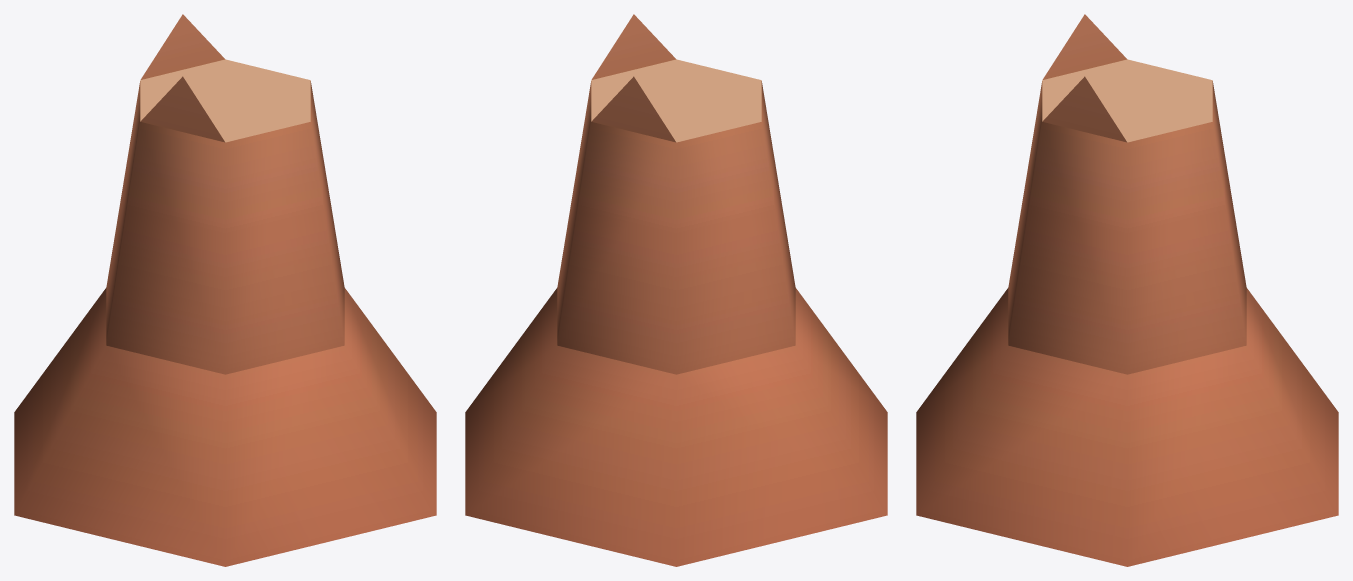
The model's file is tree-trunk.glb.
3 renders of one model, left to right at view 1: azimuth 30°, elevation 25°; view 2: azimuth 150°, elevation 25°; view 3: azimuth 270°, elevation 25°, orthographic.
Parts seen in each view (by area): view 1: tree-trunk; view 2: tree-trunk; view 3: tree-trunk.
Part boxes in pixels (x1,y1,x2,y2): tree-trunk: (14,14,436,566); tree-trunk: (465,14,887,566); tree-trunk: (916,14,1338,566).
Size of the model in its own units: 0.396 by 0.3751 by 0.343.
Materials: 1 (1 with a texture image).
